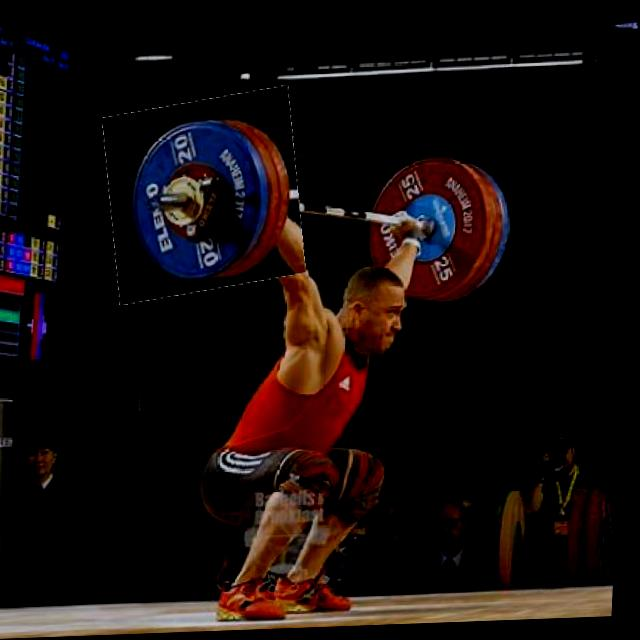barbell: (104, 94, 309, 302)
